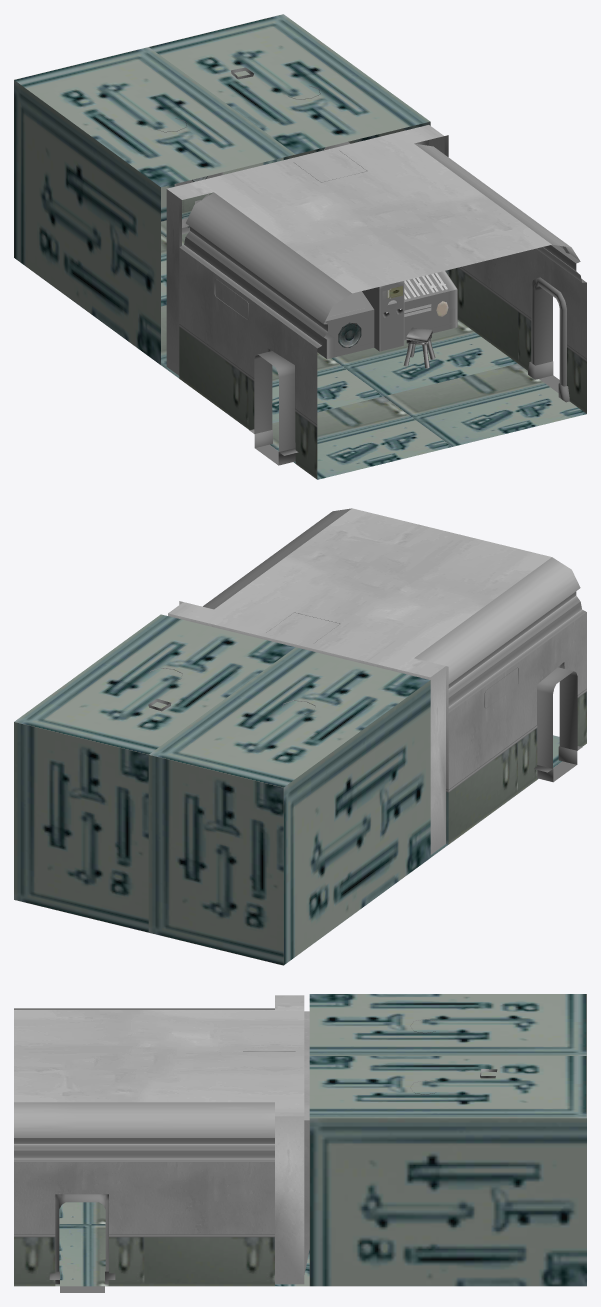
File: MSH_Radio_station_room_L2_R1_optimized.fbx
3 renders of one model, top to bottom at view 1: azimuth 30°, elevation 25°; view 2: azimuth 150°, elevation 25°; view 3: azimuth 270°, elevation 25°, orthographic. The views are drawn at different scales.
Parts seen in each view (by area): view 1: lightmap1, lightmap0; view 2: lightmap1; view 3: lightmap1.
Boxes of the visible parts, x1,y1,x2,y2 form: lightmap1: (14, 14, 586, 479); lightmap0: (155, 67, 457, 368); lightmap1: (14, 508, 586, 965); lightmap1: (14, 994, 586, 1292).
Bounding box in the file's own units: 10.3 × 6.24 × 18.13.
